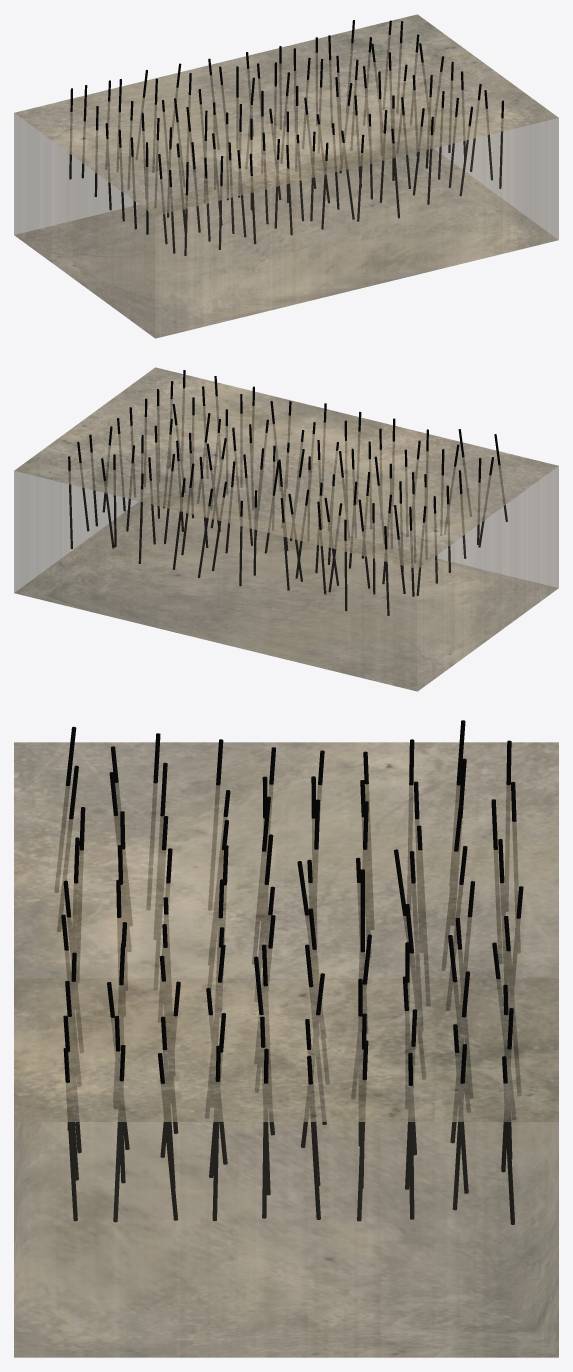
3 renders of one model, top to bottom at view 1: azimuth 30°, elevation 25°; view 2: azimuth 150°, elevation 25°; view 3: azimuth 270°, elevation 25°, orthographic. The views are drawn at different scales.
Visible parts, largest first — view 1: image_2026-07-06_13-10-21, Cylinder.050, Cylinder.049, Cylinder.047, Cylinder.048, Cylinder.051, Cylinder.066, Cylinder.063, Cylinder.069, Cylinder.046, Cylinder.040, Cylinder.053 (+7 smaller); view 2: image_2026-07-06_13-10-21, Cylinder.058, Cylinder.060, Cylinder.069, Cylinder.070, Cylinder.057, Cylinder.040, Cylinder.059, Cylinder.063, Cylinder.056, Cylinder.066, Cylinder.050 (+10 smaller); view 3: image_2026-07-06_13-10-21, Cylinder.041, Cylinder.050, Cylinder.066, Cylinder.055, Cylinder.069, Cylinder.060, Cylinder.044, Cylinder.058, Cylinder.059, Cylinder.049, Cylinder.070 (+23 smaller).
Part boxes in pixels (bbox=[...]): image_2026-07-06_13-10-21: bbox=[14, 14, 558, 338]; Cylinder.050: bbox=[184, 156, 223, 255]; Cylinder.049: bbox=[249, 145, 292, 244]; Cylinder.047: bbox=[274, 131, 315, 228]; Cylinder.048: bbox=[321, 134, 364, 229]; Cylinder.051: bbox=[228, 132, 268, 233]; Cylinder.066: bbox=[158, 142, 200, 244]; Cylinder.063: bbox=[118, 129, 136, 229]; Cylinder.069: bbox=[69, 88, 98, 196]; Cylinder.046: bbox=[169, 157, 210, 253]; Cylinder.040: bbox=[81, 79, 121, 178]; Cylinder.053: bbox=[296, 123, 339, 221]; image_2026-07-06_13-10-21: bbox=[14, 367, 558, 691]; Cylinder.058: bbox=[280, 498, 326, 594]; Cylinder.060: bbox=[197, 481, 226, 577]; Cylinder.069: bbox=[384, 506, 414, 615]; Cylinder.070: bbox=[344, 503, 375, 611]; Cylinder.057: bbox=[239, 490, 257, 586]; Cylinder.040: bbox=[358, 499, 405, 593]; Cylinder.059: bbox=[288, 493, 338, 585]; Cylinder.063: bbox=[433, 485, 450, 583]; Cylinder.056: bbox=[264, 449, 304, 553]; Cylinder.066: bbox=[440, 449, 481, 544]; Cylinder.050: bbox=[458, 429, 507, 521]; image_2026-07-06_13-10-21: bbox=[14, 742, 558, 1357]; Cylinder.041: bbox=[409, 825, 430, 1031]; Cylinder.050: bbox=[54, 726, 78, 931]; Cylinder.066: bbox=[146, 733, 167, 939]; Cylinder.055: bbox=[308, 904, 425, 1083]; Cylinder.069: bbox=[407, 739, 511, 911]; Cylinder.060: bbox=[455, 916, 521, 1098]; Cylinder.044: bbox=[252, 796, 273, 1001]; Cylinder.058: bbox=[491, 799, 508, 1002]; Cylinder.059: bbox=[441, 806, 467, 1010]; Cylinder.049: bbox=[71, 807, 85, 982]; Cylinder.070: bbox=[414, 781, 520, 952].
Bounding box in the file's own units: 1.65 × 0.6105 × 1.
3 materials, 2 textured.
